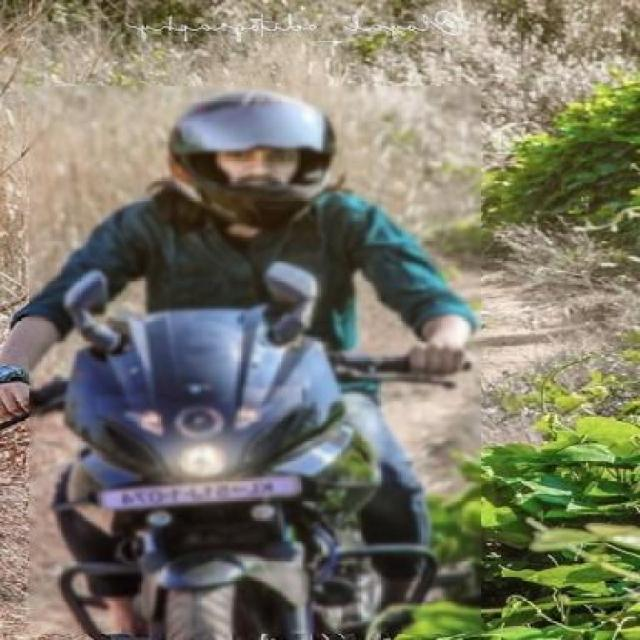helmet: (144, 84, 348, 232)
motorcycle: (0, 70, 483, 640)
